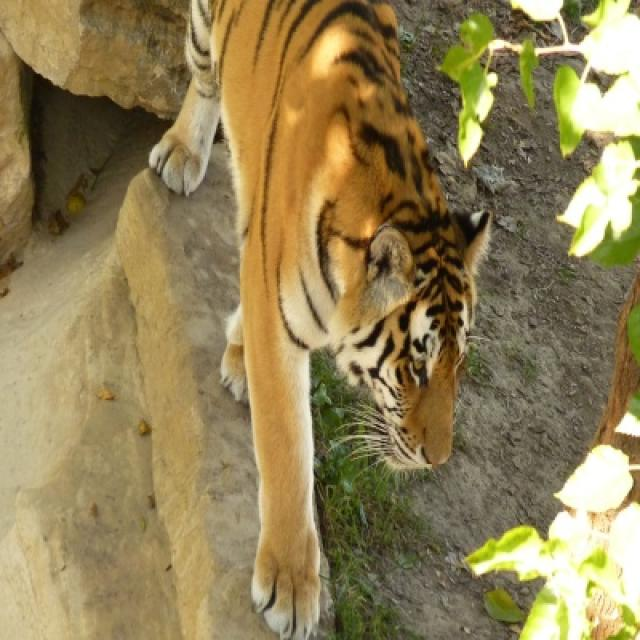Tiger: (155, 0, 487, 629)
